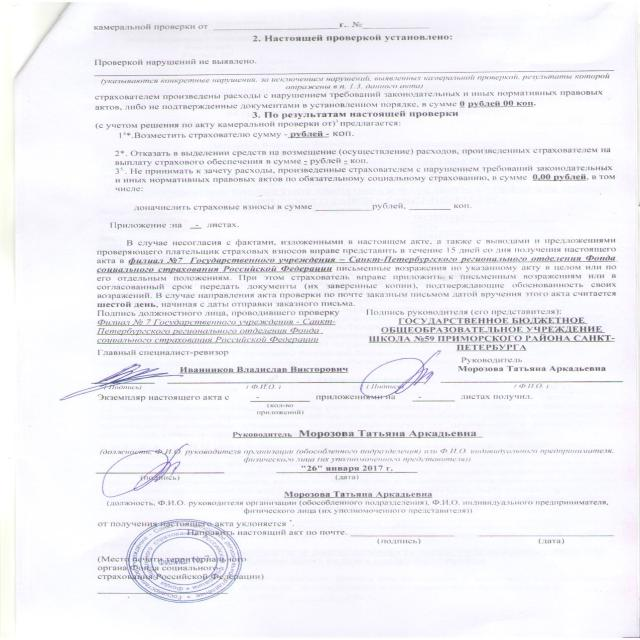stamps: (117, 510, 279, 615)
